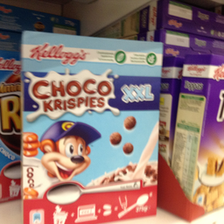cereal: (22, 29, 161, 224), (176, 53, 224, 216)
